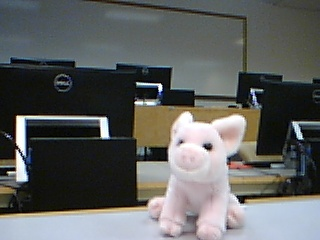piggy: (146, 110, 250, 240)
